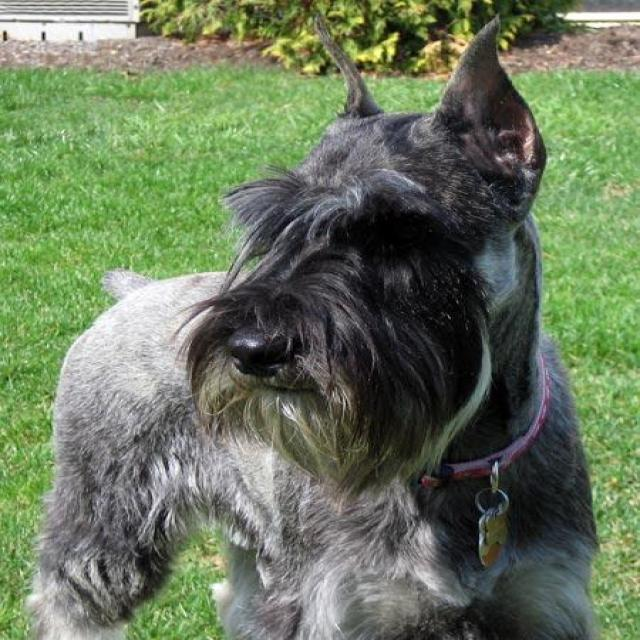standard_schnauzer: (20, 0, 596, 638)
